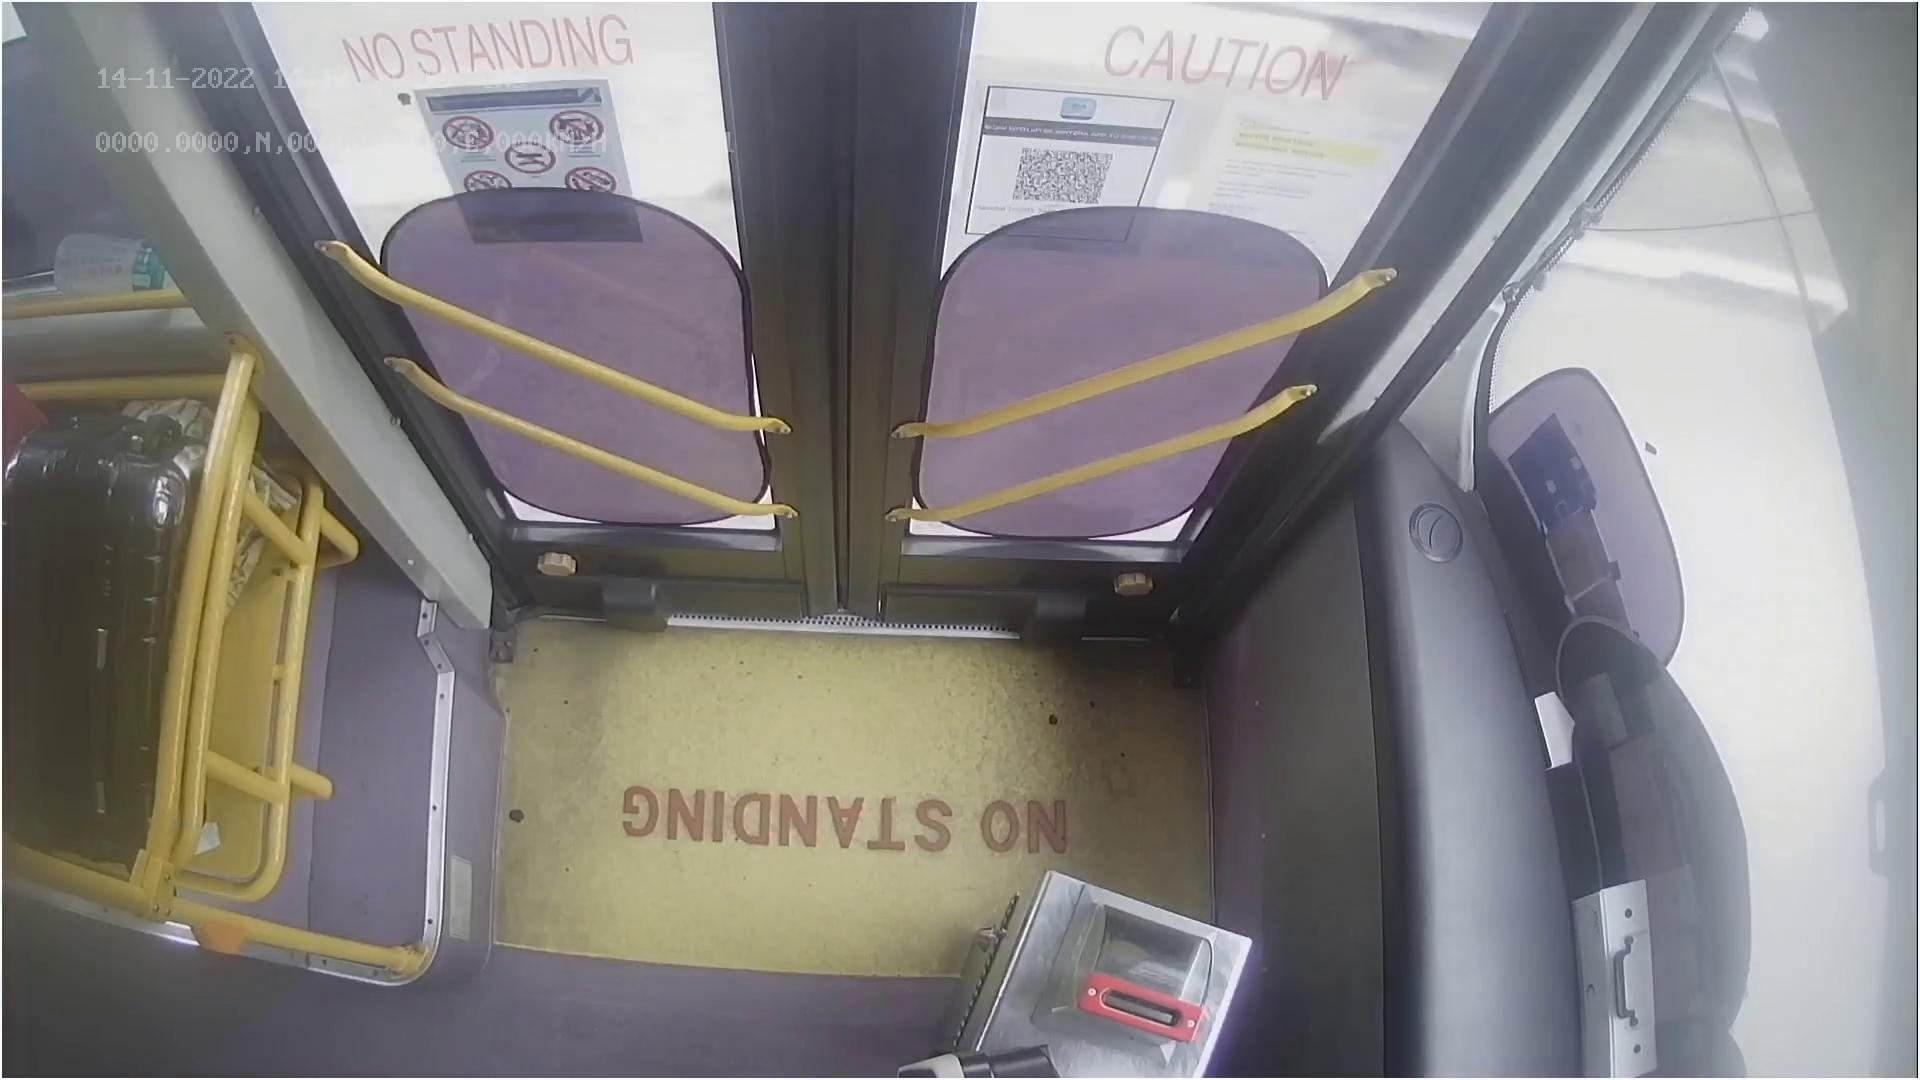close: (285, 0, 1441, 165)
